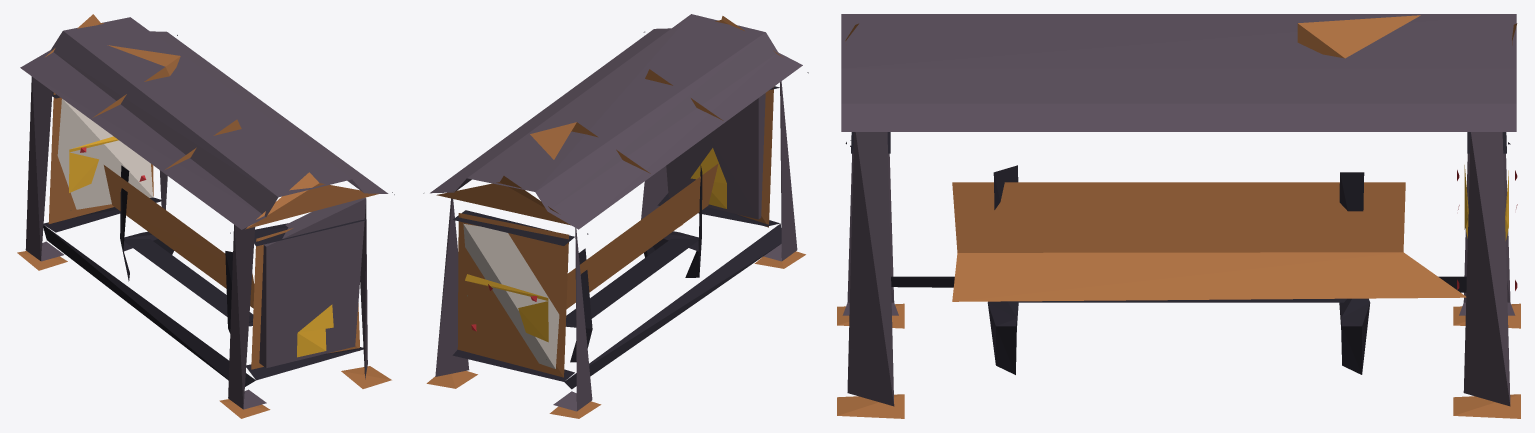
The model's file is bld.bus-stop.lod2.glb.
3 renders of one model, left to right at view 1: azimuth 30°, elevation 25°; view 2: azimuth 150°, elevation 25°; view 3: azimuth 270°, elevation 25°, orthographic. The views are drawn at different scales.
Visible parts, largest first — view 1: object 2, roof; view 2: object 2, roof; view 3: object 2, roof.
Boxes of the visible parts, x1=… form: object 2: x1=17, y1=76, x2=391, y2=418; roof: x1=20, y1=14, x2=394, y2=233; object 2: x1=426, y1=81, x2=805, y2=418; roof: x1=423, y1=14, x2=808, y2=234; object 2: x1=837, y1=132, x2=1520, y2=418; roof: x1=841, y1=14, x2=1517, y2=146.
Bounding box in the file's own units: 2.04 × 2.66 × 4.86.
